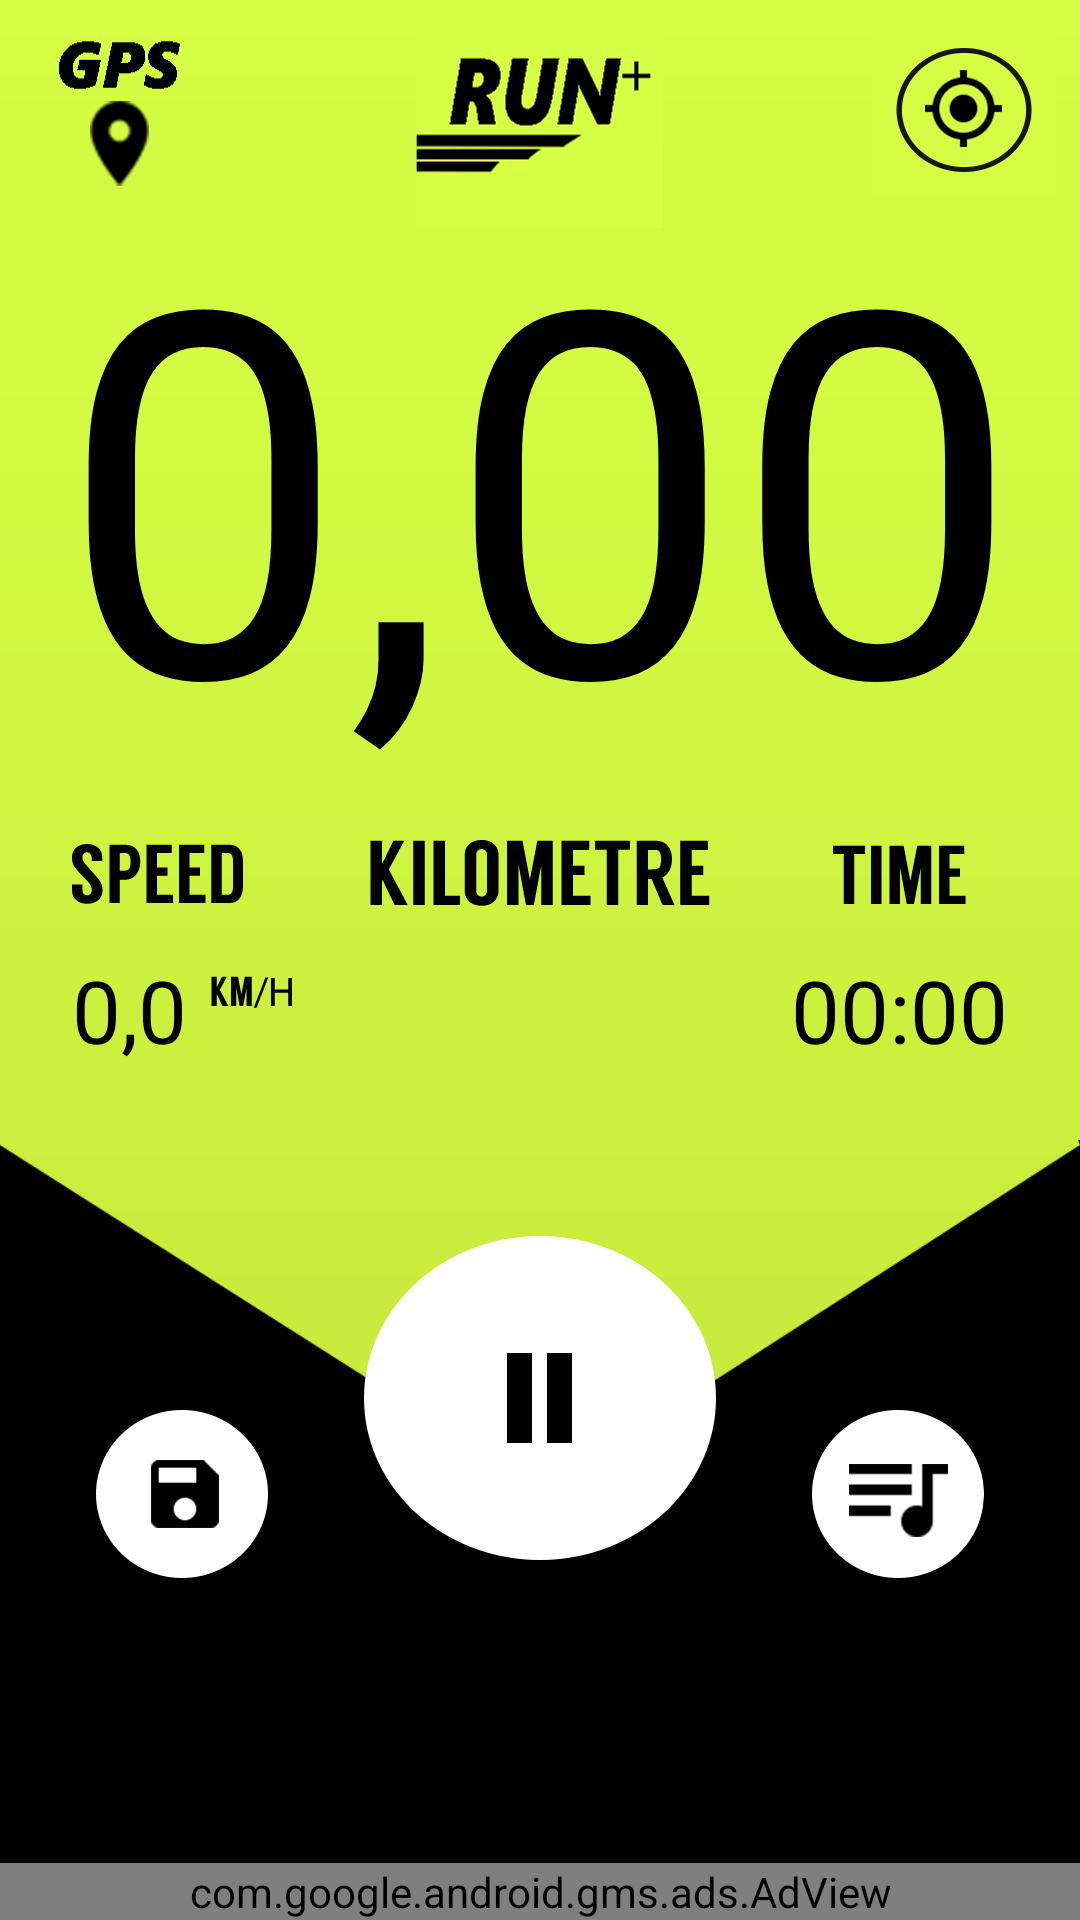

Where to tap for icons on this 1080*1920 app screen, as (x=x, y=y):
music: (x=898, y=1494)
save: (x=182, y=1494)
show map: (x=964, y=110)
